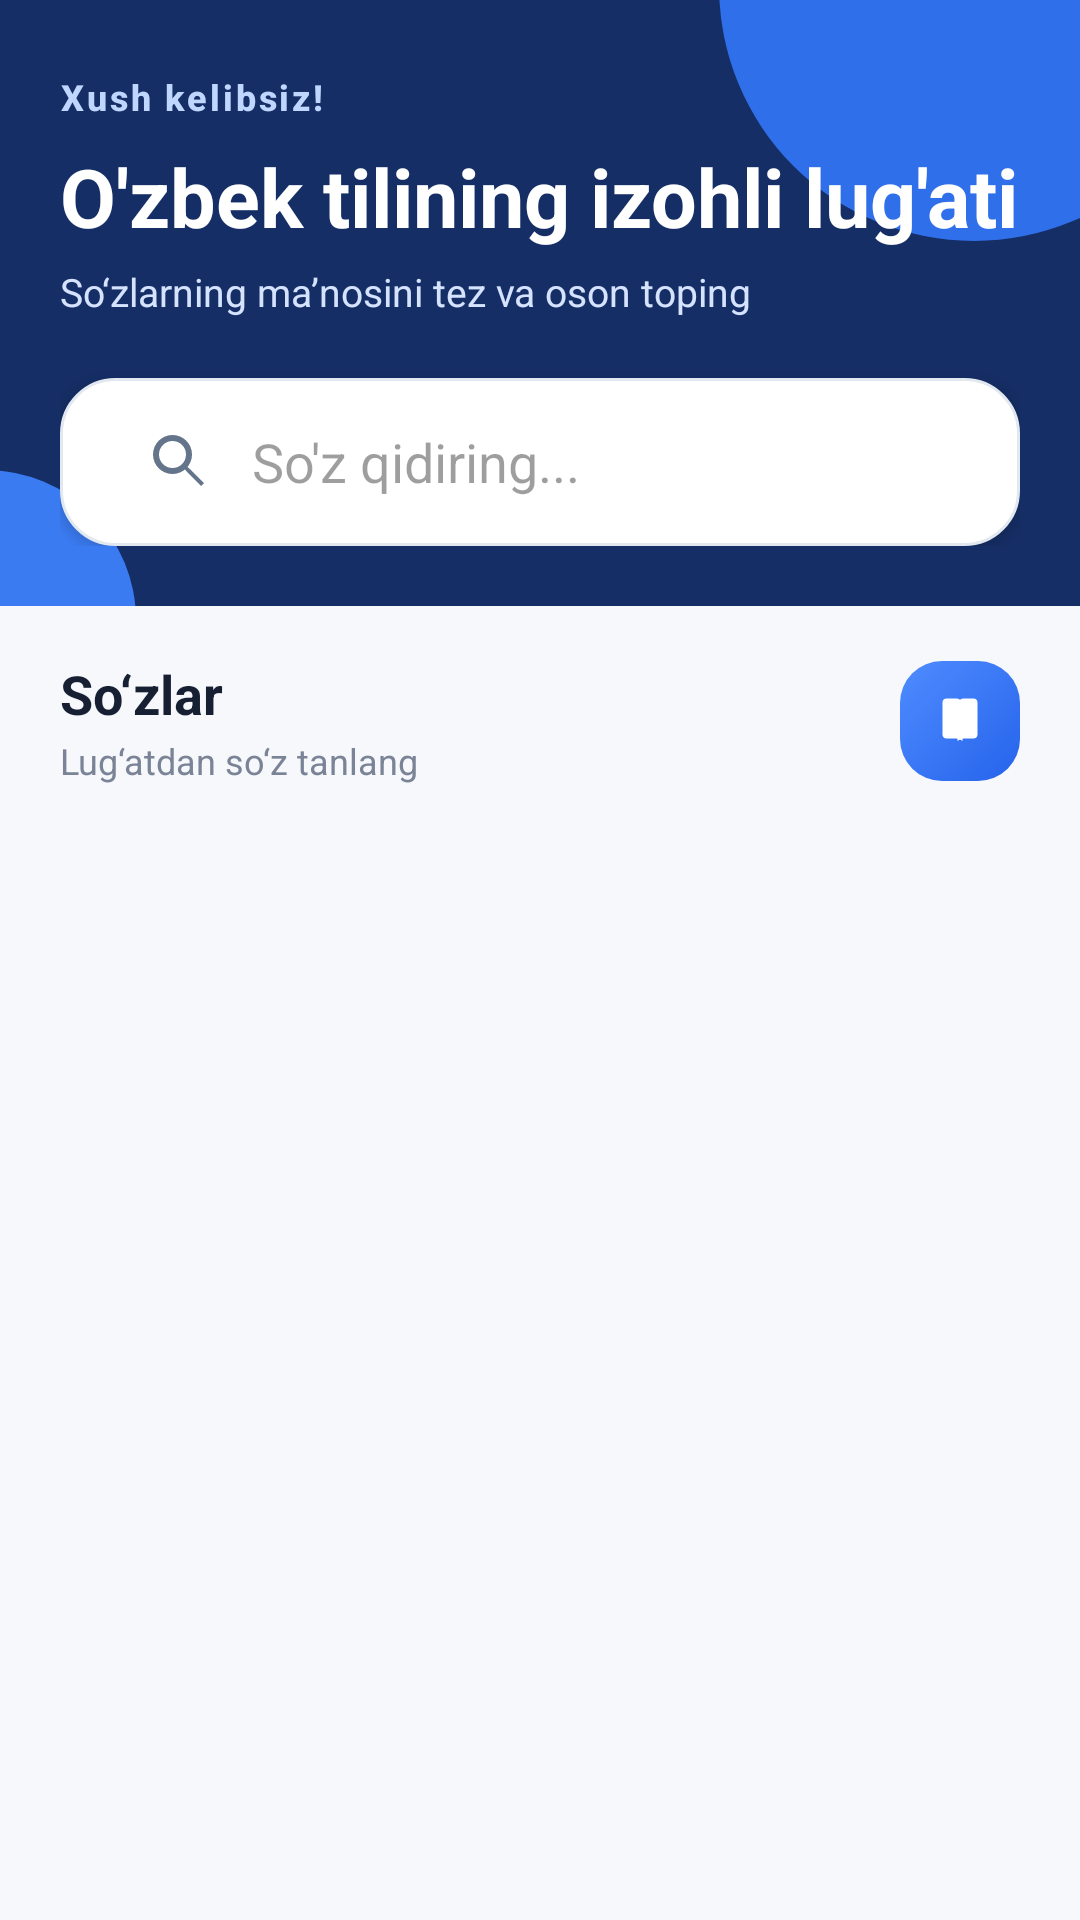

Screen size 1080px x 1920px. Icon name, then its center in pixels as [x,y]:
book: [960,721]
